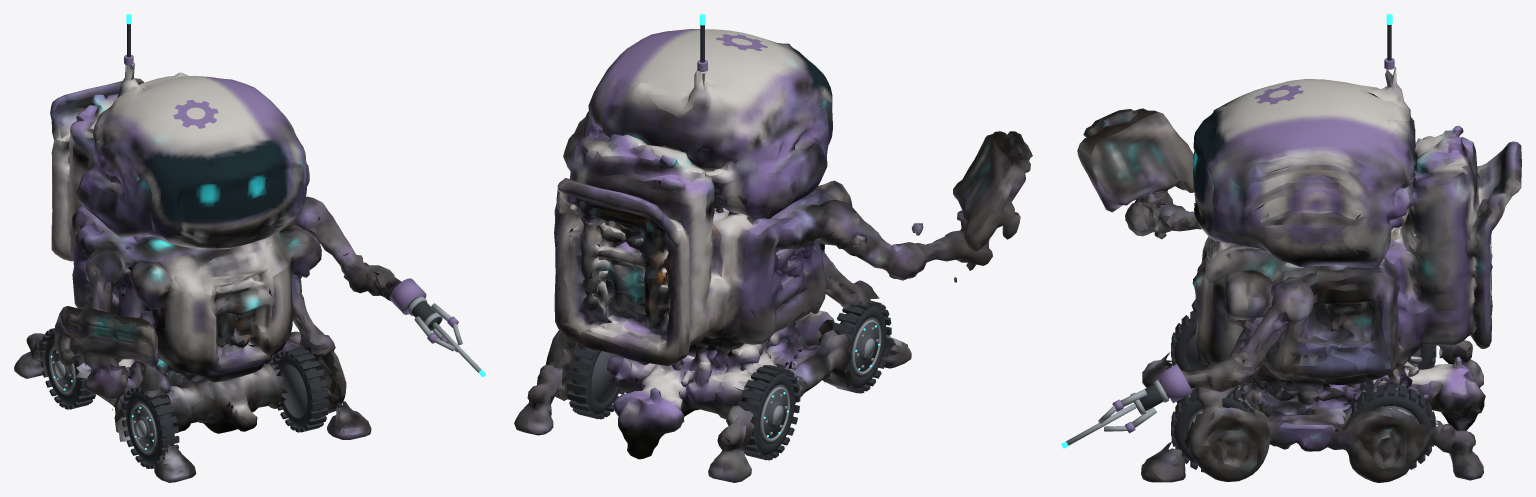
Rendered from static-finish.glb.
The picture shows the model from 3 angles, left to right: view 1: azimuth 30°, elevation 25°; view 2: azimuth 150°, elevation 25°; view 3: azimuth 270°, elevation 25°; orthographic projection. The views are drawn at different scales.
Visible parts, largest first — view 1: Finish v2 | Core wheel partition study | source geometry unc, Finish v2 | wheel.front.L.001 | unified tire and rim.002, Finish v2 | wheel.front.R.001 | unified tire and rim.002, Finish v2 | wheel.rear.R.001 | unified tire and rim.002, Core probe v3 | wrist socket, Core roof gear | card matched.002; view 2: Finish v2 | Core wheel partition study | source geometry unc, Finish v2 | wheel.rear.R.001 | unified tire and rim.002, Finish v2 | wheel.front.R.001 | unified tire and rim.002, Finish v2 | wheel.rear.L.001 | unified tire and rim.002; view 3: Finish v2 | Core wheel partition study | source geometry unc, Finish v2 | wheel.rear.L.001 | unified tire and rim.002, Finish v2 | wheel.front.L.001 | unified tire and rim.002, Finish v2 | wheel.front.R.001 | unified tire and rim.002, Core probe v3 | wrist socket.
Boxes of the visible parts, <box> form: Finish v2 | Core wheel partition study | source geometry unc: <box>14,63,401,482</box>; Finish v2 | wheel.front.L.001 | unified tire and rim.002: <box>273,347,328,432</box>; Finish v2 | wheel.front.R.001 | unified tire and rim.002: <box>121,386,179,468</box>; Finish v2 | wheel.rear.R.001 | unified tire and rim.002: <box>40,328,95,409</box>; Core probe v3 | wrist socket: <box>389,278,426,314</box>; Core roof gear | card matched.002: <box>173,100,218,128</box>; Finish v2 | Core wheel partition study | source geometry unc: <box>514,29,1032,482</box>; Finish v2 | wheel.rear.R.001 | unified tire and rim.002: <box>738,365,800,460</box>; Finish v2 | wheel.front.R.001 | unified tire and rim.002: <box>832,300,891,393</box>; Finish v2 | wheel.rear.L.001 | unified tire and rim.002: <box>567,343,624,419</box>; Finish v2 | Core wheel partition study | source geometry unc: <box>1077,67,1521,482</box>; Finish v2 | wheel.rear.L.001 | unified tire and rim.002: <box>1350,384,1436,469</box>; Finish v2 | wheel.front.L.001 | unified tire and rim.002: <box>1171,388,1255,472</box>; Finish v2 | wheel.front.R.001 | unified tire and rim.002: <box>1171,310,1206,370</box>; Core probe v3 | wrist socket: <box>1157,364,1192,403</box>.
Size of the model in its own units: 1.28 by 1.2 by 1.23.
Materials: 13 (1 with a texture image).
